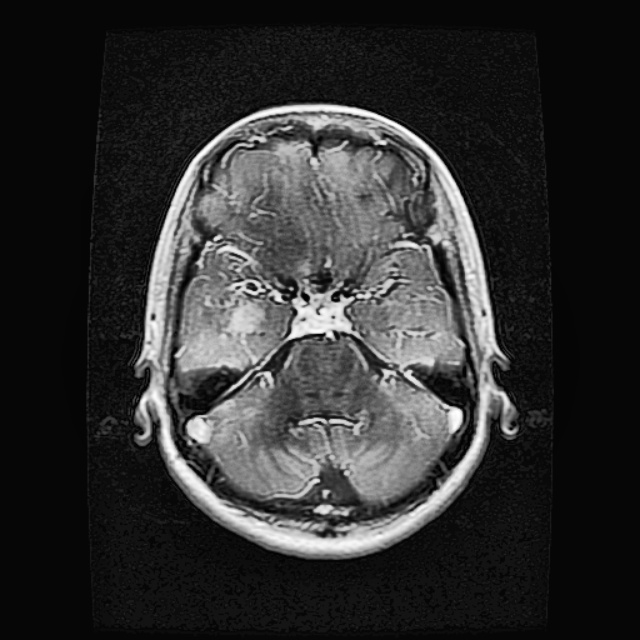Glioma: (203, 277, 269, 342)
